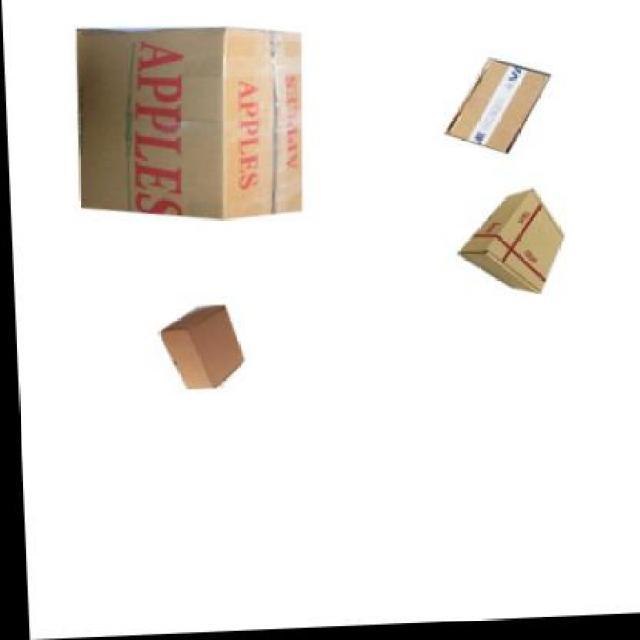box: (70, 23, 302, 225), (457, 192, 565, 301), (443, 59, 551, 160), (156, 308, 244, 390)
